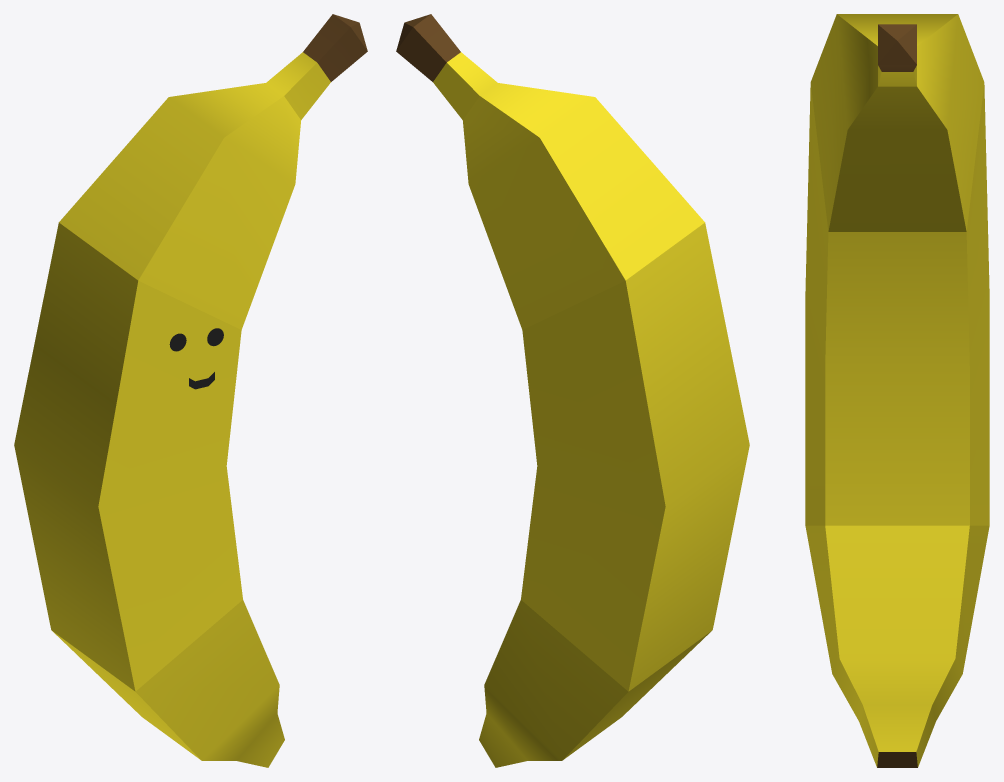
File: banana.glb
3 renders of one model, left to right at view 1: azimuth 30°, elevation 25°; view 2: azimuth 150°, elevation 25°; view 3: azimuth 270°, elevation 25°, orthographic. The views are drawn at different scales.
Parts seen in each view (by area): view 1: node-0; view 2: node-0; view 3: node-0.
Boxes of the visible parts, x1=… form: node-0: x1=14, y1=14, x2=367, y2=767; node-0: x1=396, y1=14, x2=749, y2=767; node-0: x1=805, y1=14, x2=989, y2=767.
Bounding box in the file's own units: 0.8984 × 2.04 × 0.4954.
Materials: 1 (1 with a texture image).
